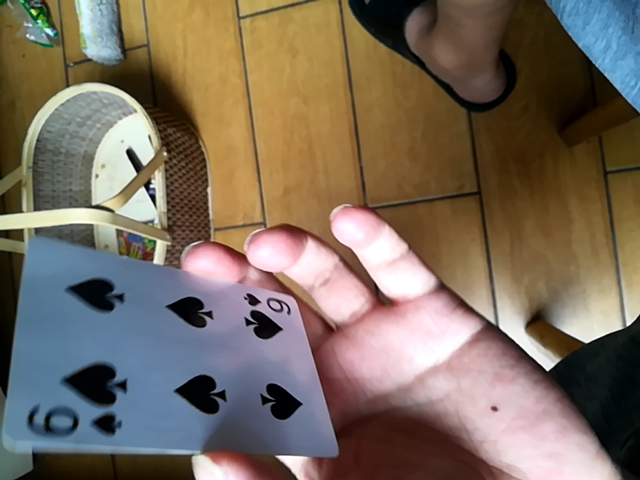ht 6: (4, 239, 330, 461)
